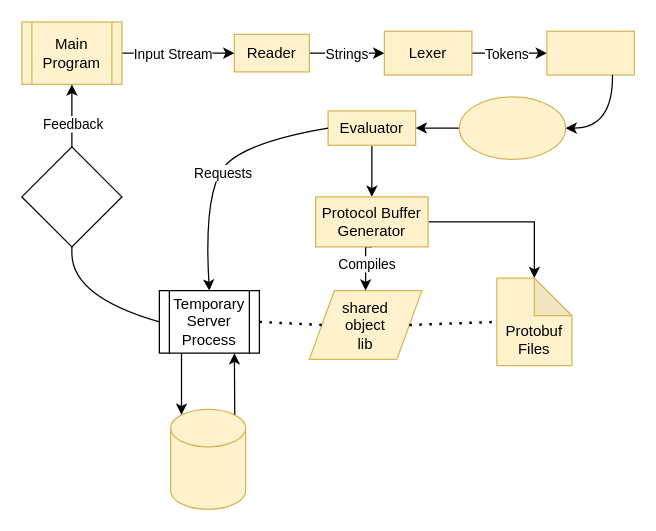
This 656x531 diagram has some shape labels left out. The shapes that lost their labels are listed below. From the top down, each one's centre as x and y in pixels, then its label:
the point at 590,52: Parser
the point at 512,127: Abstract Syntax Tree
the point at 71,196: Unix Socket
the point at 207,458: Serialized Data
